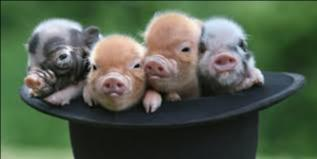Non_Gorille: (22, 1, 272, 119)
